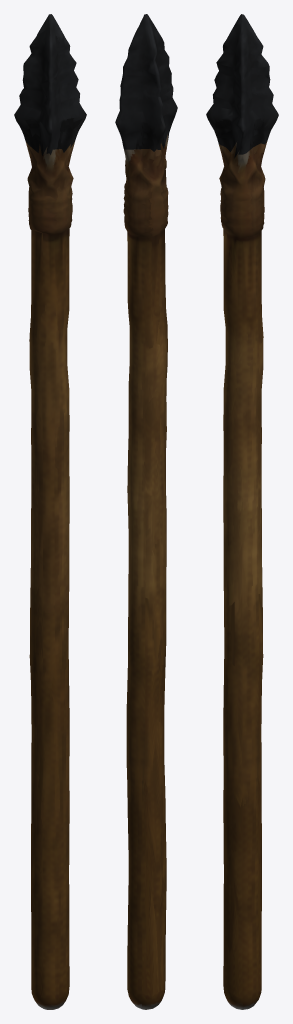
File: obsidian-spear-model.glb
The picture shows the model from 3 angles, left to right: view 1: azimuth 90°, elevation 25°; view 2: azimuth 210°, elevation 25°; view 3: azimuth 270°, elevation 25°; orthographic projection.
Visible parts, largest first — view 1: flint-spear.001; view 2: flint-spear.001; view 3: flint-spear.001.
Boxes of the visible parts, box(x1,y1,x2,y2) form: flint-spear.001: box(14, 14, 86, 1009); flint-spear.001: box(115, 14, 177, 1009); flint-spear.001: box(206, 14, 278, 1009).
Bounding box in the file's own units: 0.1367 × 2.1 × 0.1396.
Materials: 2 (2 with a texture image).
